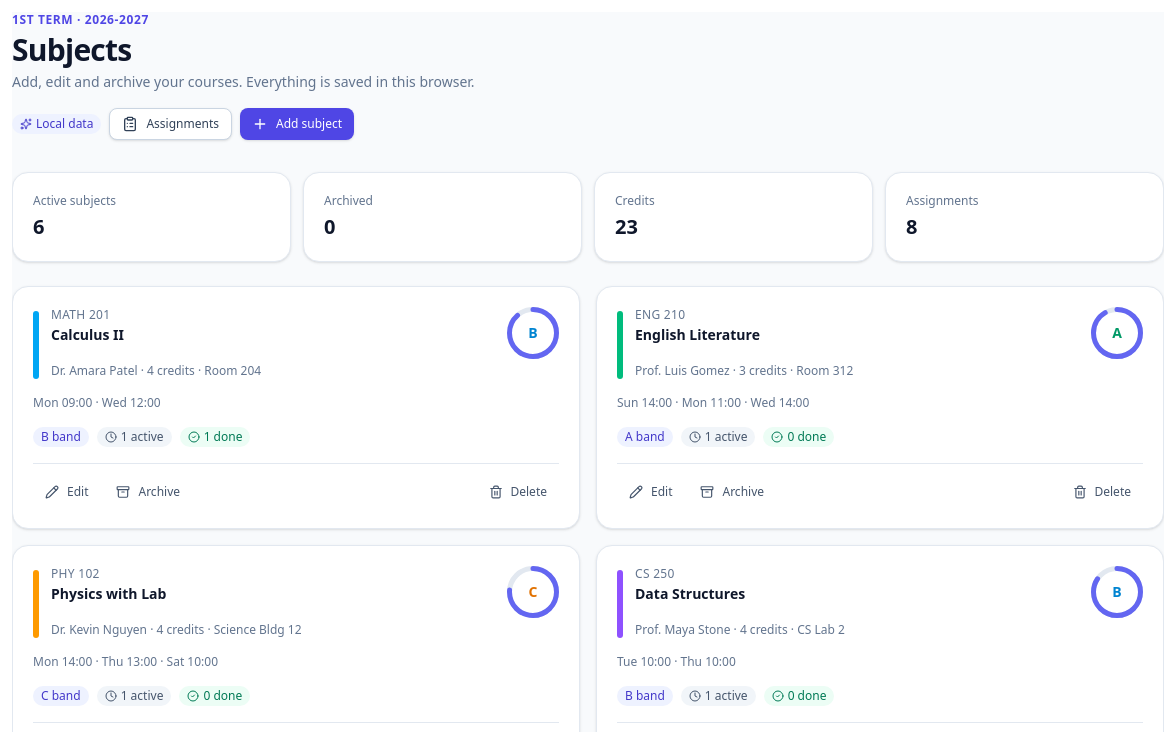
SubjectsPage › archives a subject and marks it visually
Click the button with aria-label "Archive Calculus II". click: (148, 492)
box: x1=104 y1=476 x2=192 y2=508
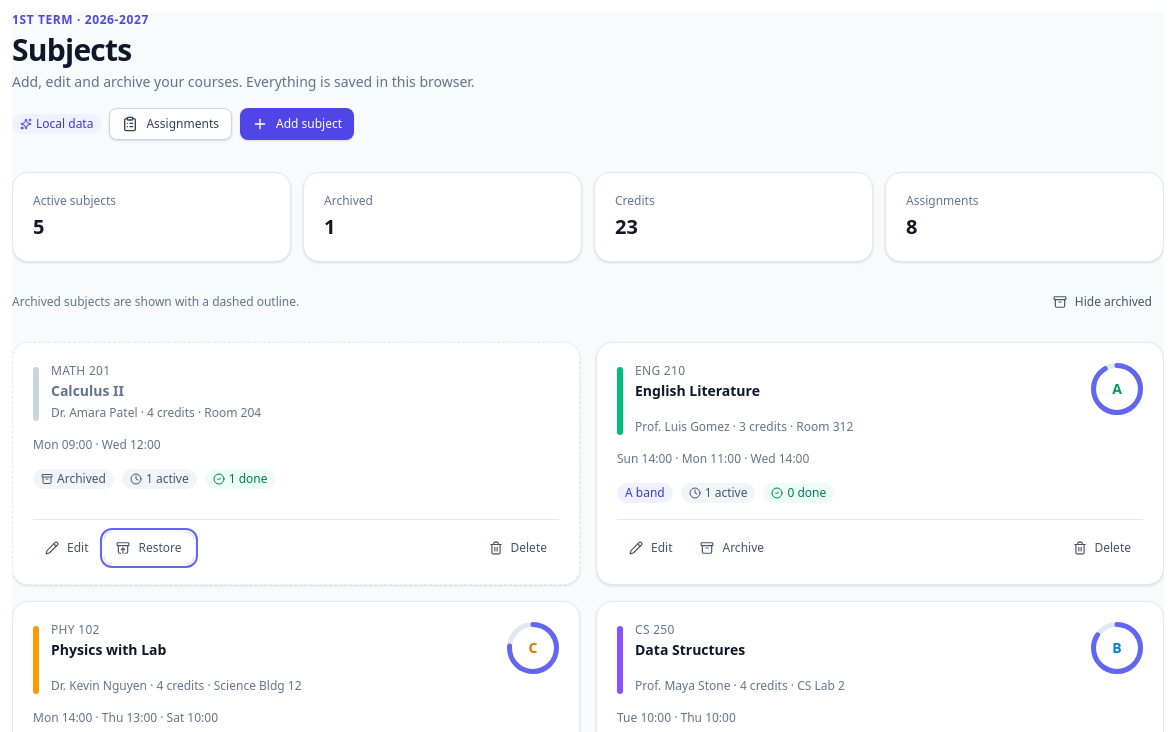
Check: the button with aria-label "Restore Calculus II" is shown, box x1=104 y1=532 x2=194 y2=564
Check: the text "Archived" is shown, box x1=33 y1=469 x2=114 y2=489
